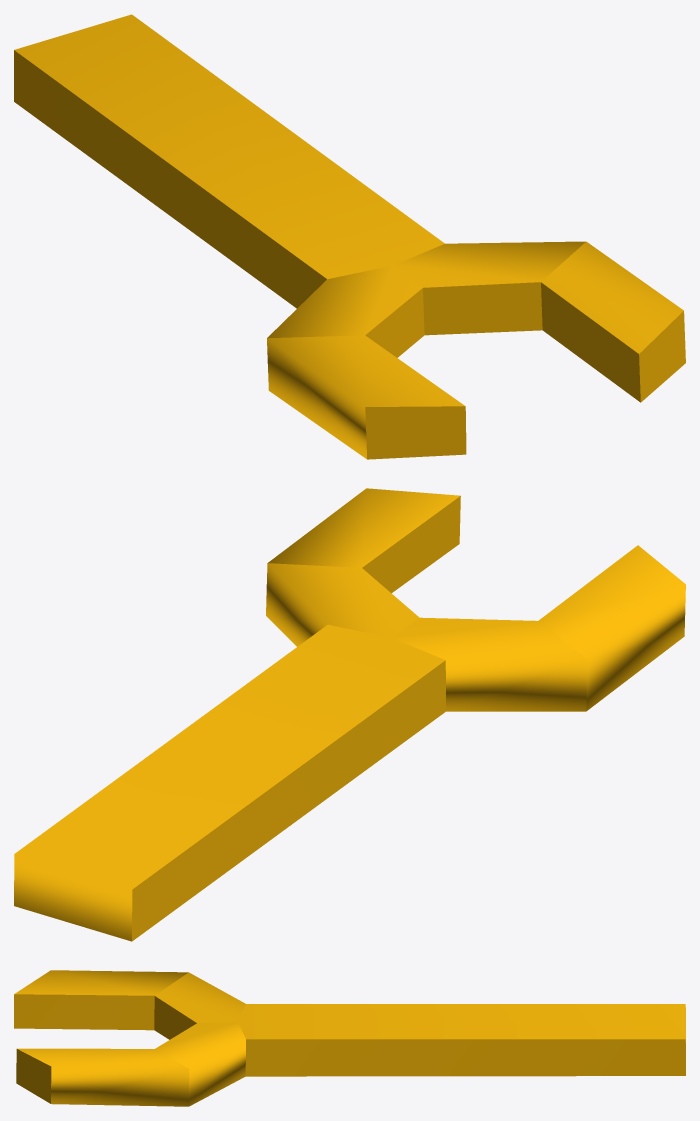
Rendered from dano.fbx.
The picture shows the model from 3 angles, top to bottom: view 1: azimuth 30°, elevation 25°; view 2: azimuth 150°, elevation 25°; view 3: azimuth 270°, elevation 25°; orthographic projection. The views are drawn at different scales.
Visible parts, largest first — view 1: pasted__polySurface2; view 2: pasted__polySurface2; view 3: pasted__polySurface2.
Boxes of the visible parts, bbox=[...] form: pasted__polySurface2: bbox=[14, 14, 685, 459]; pasted__polySurface2: bbox=[14, 488, 685, 941]; pasted__polySurface2: bbox=[14, 970, 685, 1106].
Bounding box in the file's own units: 9.6 × 2.12 × 24.74.
